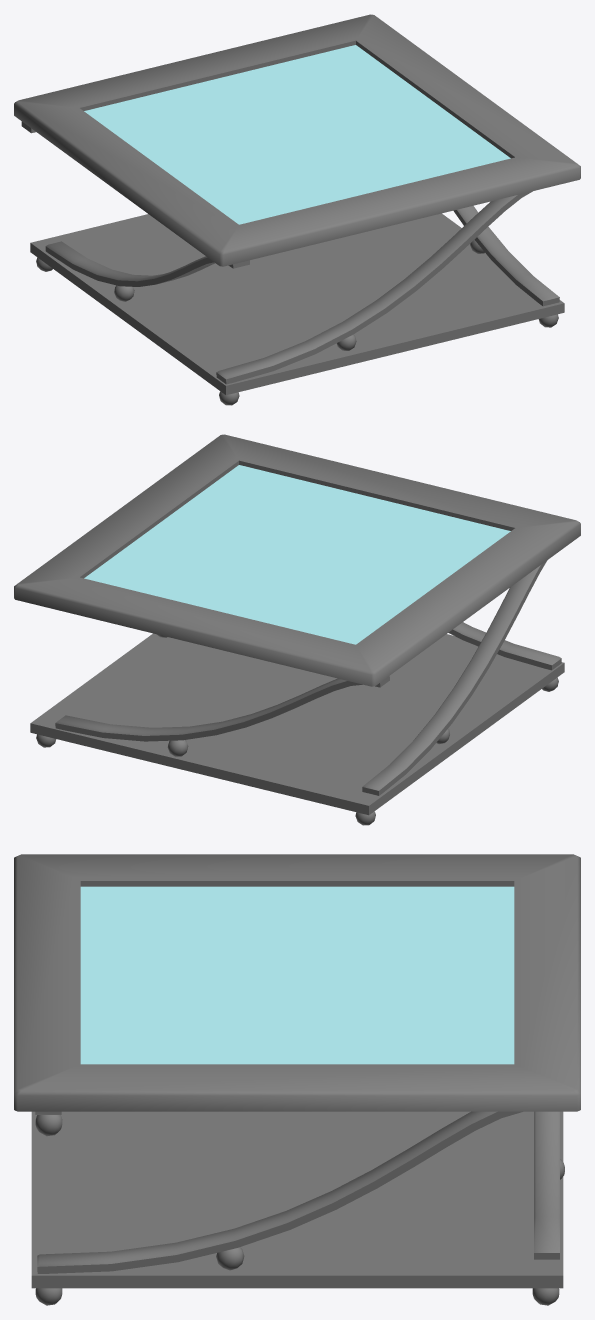
File: Livingroom_Table.FBX
3 views of the same model, one above another, from view 1: azimuth 30°, elevation 25°; view 2: azimuth 150°, elevation 25°; view 3: azimuth 270°, elevation 25° (orthographic). The views are drawn at different scales.
Visible parts, largest first — view 1: Livingroom_Table_LOD0; view 2: Livingroom_Table_LOD0; view 3: Livingroom_Table_LOD0.
Boxes of the visible parts, x1,y1,x2,y2 form: Livingroom_Table_LOD0: (14, 14, 580, 405); Livingroom_Table_LOD0: (14, 434, 580, 825); Livingroom_Table_LOD0: (14, 854, 580, 1305).
Size of what is drawn, in the model's own units: 62.99 by 27.72 by 62.99.
